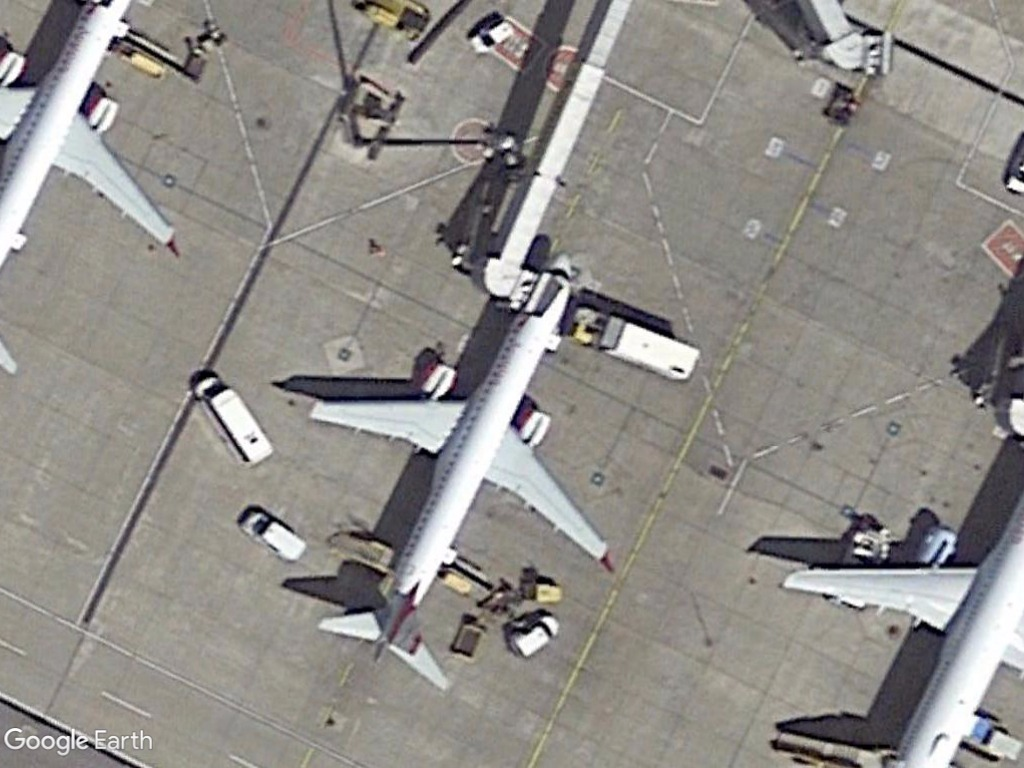airliner: (302, 249, 619, 689)
van: (190, 372, 275, 472), (238, 510, 309, 569), (508, 612, 565, 664), (468, 16, 518, 57)
